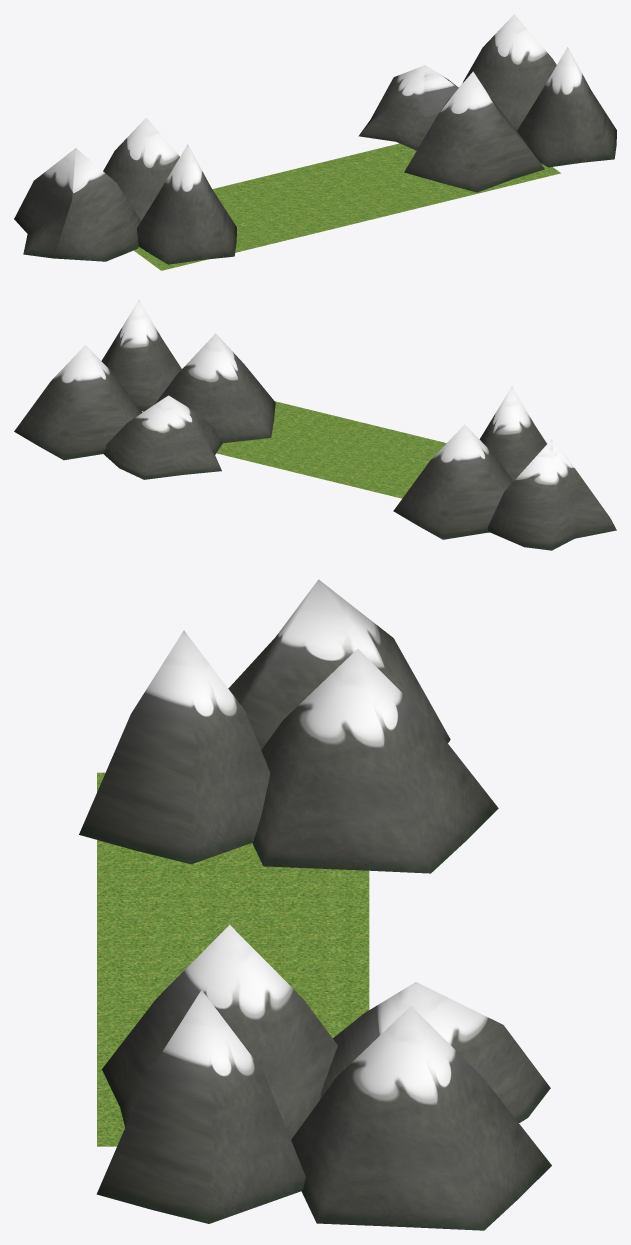
Rendered from terrain_4.glb.
3 views of the same model, one above another, from view 1: azimuth 30°, elevation 25°; view 2: azimuth 150°, elevation 25°; view 3: azimuth 270°, elevation 25° (orthographic). The views are drawn at different scales.
Visible parts, largest first — view 1: Circle.016; view 2: Circle.016; view 3: Circle.016.
Boxes of the visible parts, x1=… form: Circle.016: x1=14, y1=14, x2=616, y2=270; Circle.016: x1=14, y1=299, x2=616, y2=550; Circle.016: x1=79, y1=579, x2=551, y2=1230.
Size of the model in its own units: 188 by 30.73 by 69.5.
Materials: 5 (5 with a texture image).
